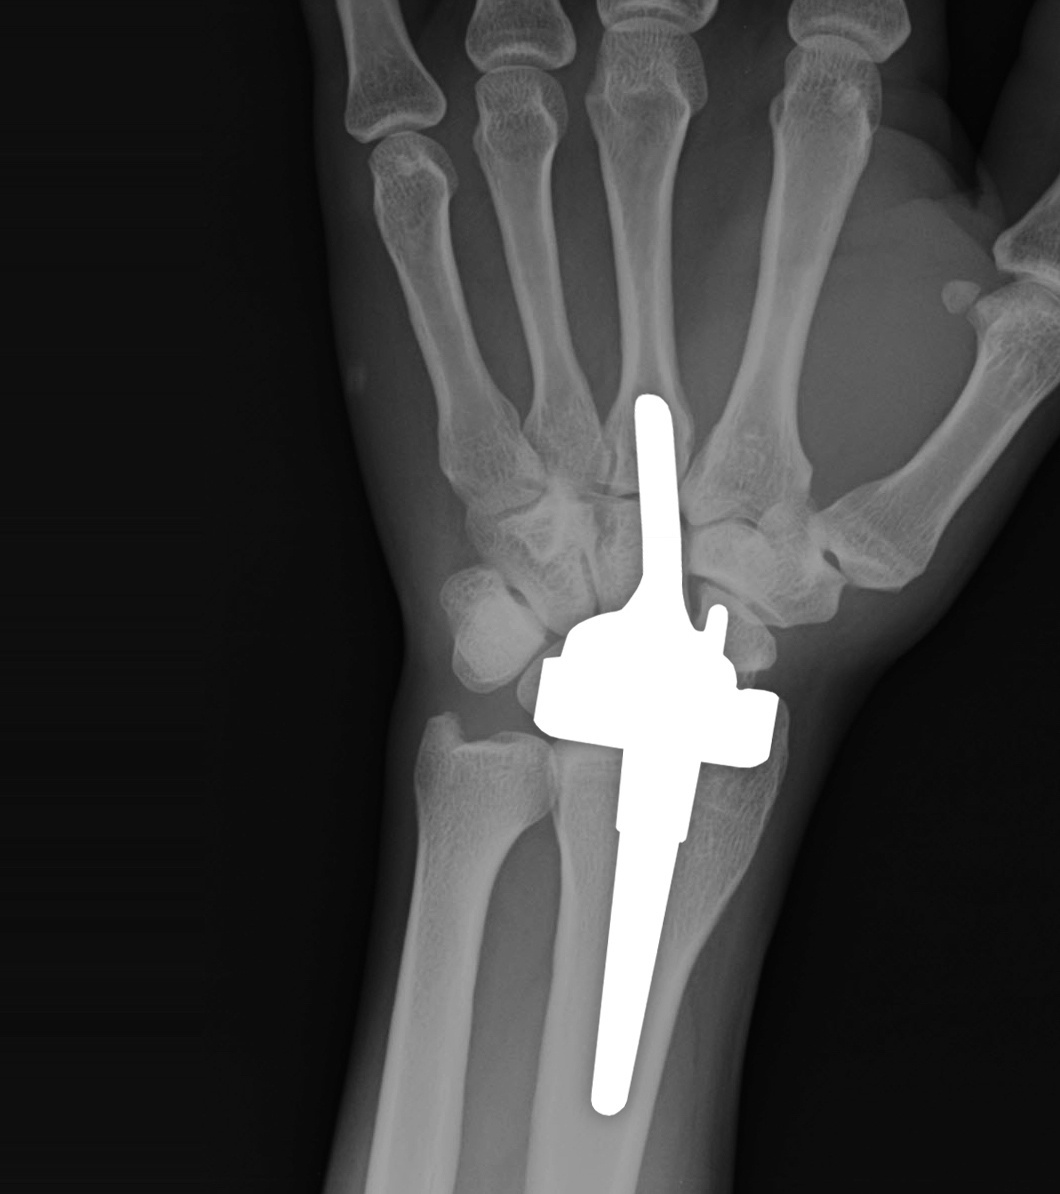Wrist-Biax-DePuuy: (534, 381, 786, 1126)
